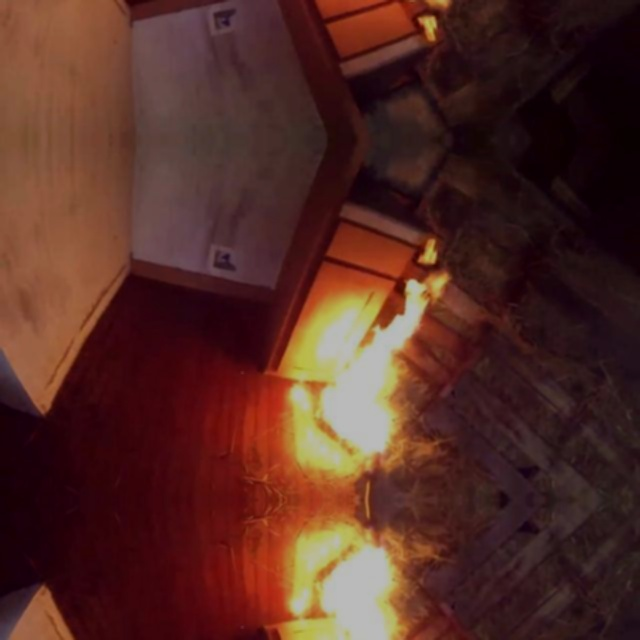fire: (277, 207, 441, 640)
